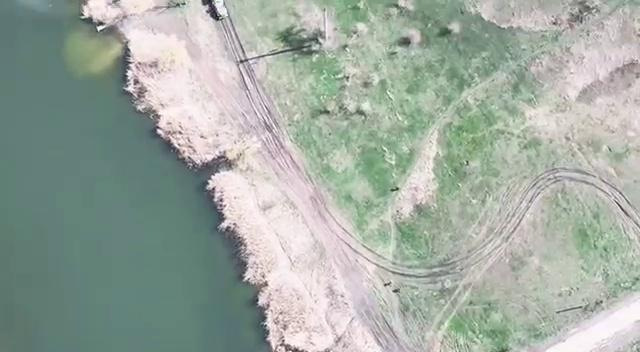person: (388, 280, 394, 286), (396, 288, 402, 292), (396, 185, 400, 190)
vehicle: (209, 0, 231, 18)
